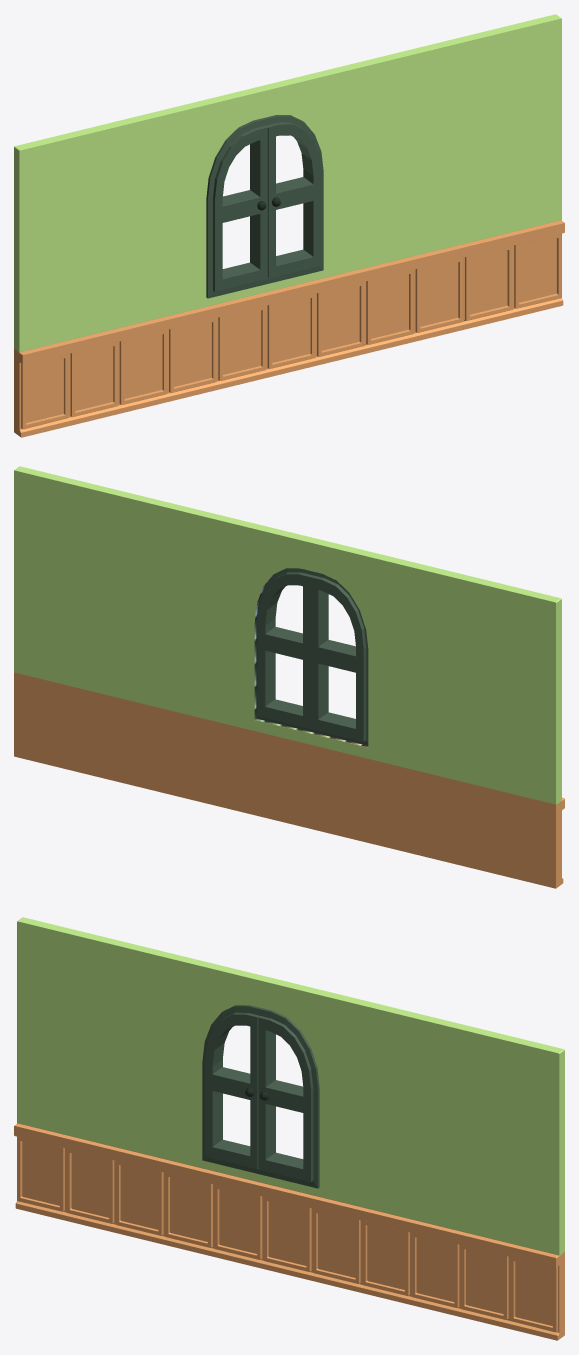
The model's file is duvar2.fbx.
3 views of the same model, one above another, from view 1: azimuth 30°, elevation 25°; view 2: azimuth 150°, elevation 25°; view 3: azimuth 330°, elevation 25° (orthographic).
Visible parts, largest first — view 1: Sphere.005; view 2: Sphere.005; view 3: Sphere.005.
Part boxes in pixels (<box>): Sphere.005: <box>14,14,564,437</box>; Sphere.005: <box>14,466,564,888</box>; Sphere.005: <box>14,917,564,1340</box>.
Bounding box in the file's own units: 1889 × 81.37 × 953.
